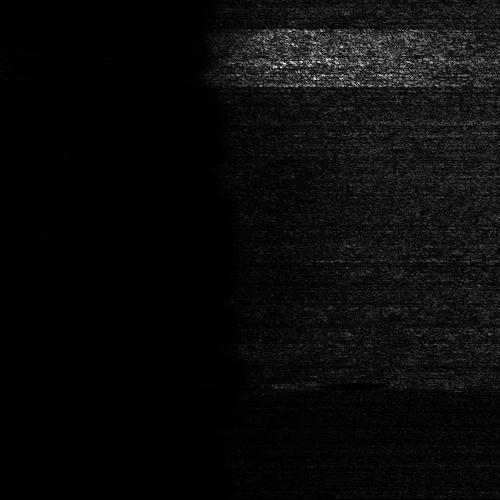object: (274, 379, 337, 386), (480, 209, 500, 214)
shadow: (306, 379, 410, 386)
